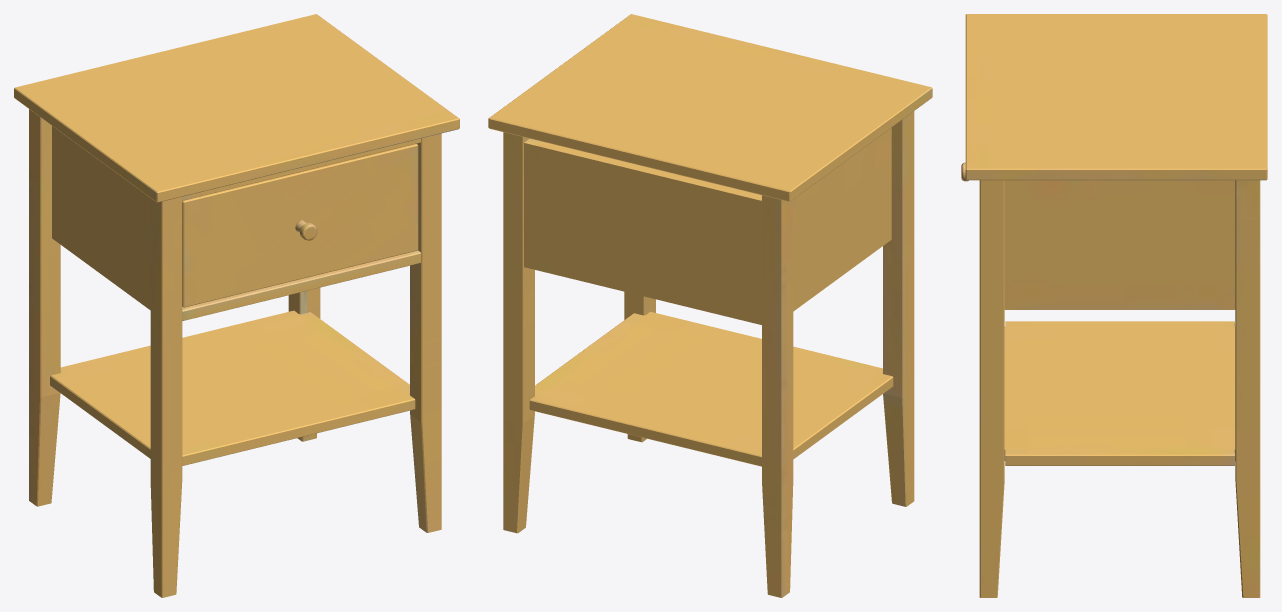
The picture shows the model from 3 angles, left to right: view 1: azimuth 30°, elevation 25°; view 2: azimuth 150°, elevation 25°; view 3: azimuth 270°, elevation 25°; orthographic projection. The views are drawn at different scales.
Visible parts, largest first — view 1: ASY_ART_30593444_S01_NV01; view 2: ASY_ART_30593444_S01_NV01; view 3: ASY_ART_30593444_S01_NV01.
Boxes of the visible parts, left/top/right/bottom form: ASY_ART_30593444_S01_NV01: left=14, top=14, right=459, bottom=597; ASY_ART_30593444_S01_NV01: left=488, top=14, right=932, bottom=597; ASY_ART_30593444_S01_NV01: left=961, top=14, right=1267, bottom=597.
Size of the model in its own units: 0.526 by 0.685 by 0.4369.
1 material, 1 textured.
